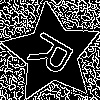R: (27, 28, 83, 83)
